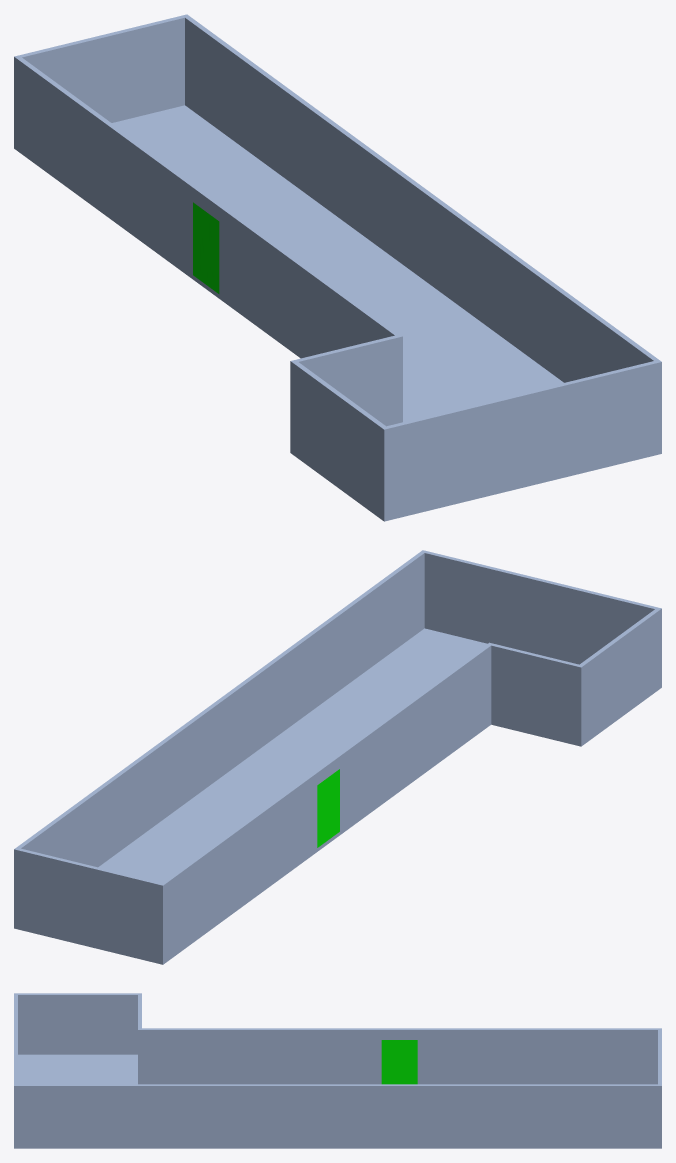
Rendered from Backwash_Pump_House_expansion.glb.
The picture shows the model from 3 angles, top to bottom: view 1: azimuth 30°, elevation 25°; view 2: azimuth 150°, elevation 25°; view 3: azimuth 270°, elevation 25°; orthographic projection. The views are drawn at different scales.
Visible parts, largest first — view 1: Floor1; view 2: Floor1; view 3: Floor1.
Boxes of the visible parts, x1,y1,x2,y2 form: Floor1: [14, 14, 661, 521]; Floor1: [14, 550, 661, 964]; Floor1: [14, 993, 661, 1148].
Bounding box in the file's own units: 13.28 × 4.2 × 39.3.
